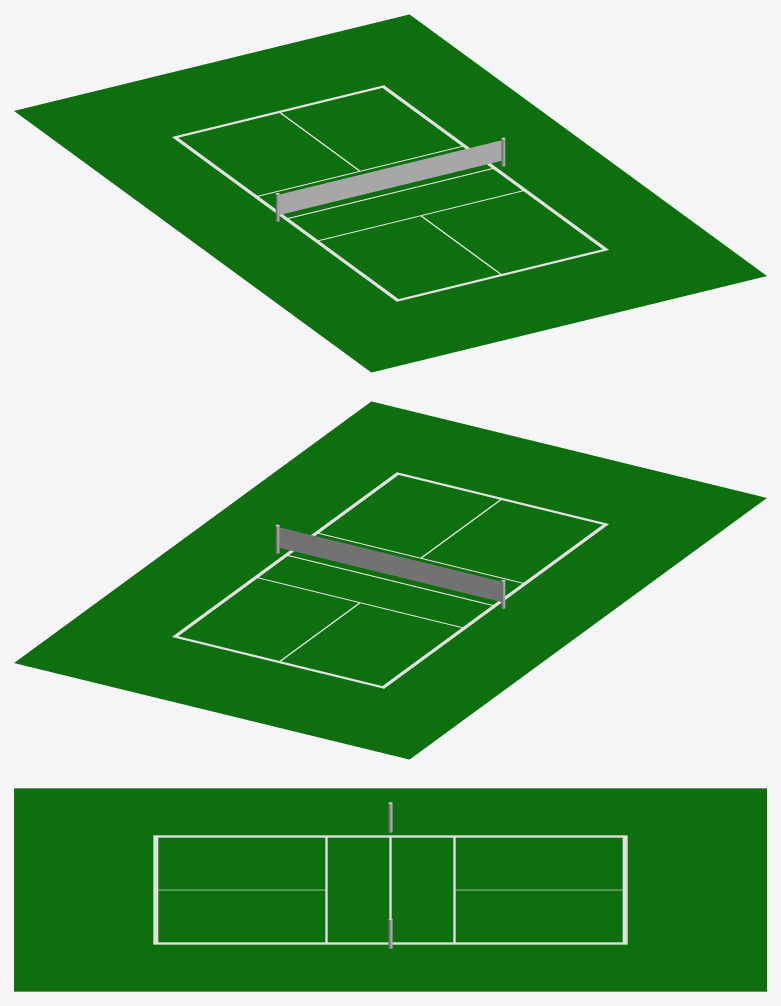
The model's file is badmintonCourt.fbx.
3 renders of one model, top to bottom at view 1: azimuth 30°, elevation 25°; view 2: azimuth 150°, elevation 25°; view 3: azimuth 270°, elevation 25°, orthographic. The views are drawn at different scales.
Visible parts, largest first — view 1: Court, Net; view 2: Court, Net; view 3: Court.
Boxes of the visible parts, x1,y1,x2,y2 form: Court: (14,14,766,372); Net: (279,140,501,214); Court: (14,401,766,759); Net: (279,527,501,601); Court: (14,788,766,991).
Bounding box in the file's own units: 2101 × 157 × 3288.
